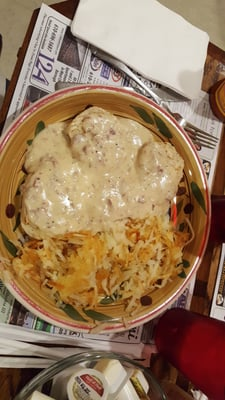sushi: (0, 85, 212, 380)
